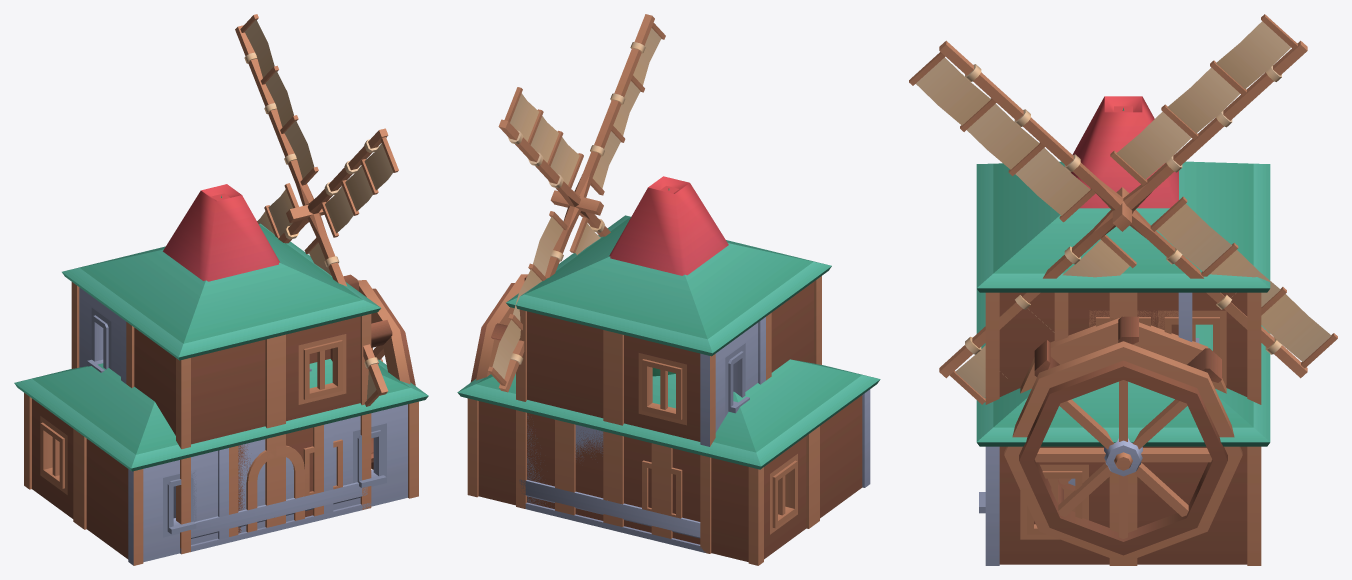
The model's file is farm.glb.
The picture shows the model from 3 angles, left to right: view 1: azimuth 30°, elevation 25°; view 2: azimuth 150°, elevation 25°; view 3: azimuth 270°, elevation 25°; orthographic projection. The views are drawn at different scales.
Visible parts, largest first — view 1: roof-corner (×7), wall-wood (×5), wall-wood-window-small (×3), wall-wood-window-shutters (×4), windmill, roof-high-point, wall (×2), wall-wood-door, fountain-square-detail, watermill, wall-window-shutters, roof (+1 smaller); view 2: wall-wood (×8), roof-corner (×7), wall-wood-window-shutters (×3), windmill, roof-high-point, wall-wood-window-small (×2), fountain-square-detail, wall-window-shutters (×2), watermill, wall, roof, wall-window-small; view 3: windmill, roof-corner (×6), watermill, wall-wood (×5), wall-wood-window-shutters (×4), roof-high-point, wall-wood-window-small (×2), roof.
Boxes of the visible parts, x1,y1,x2,y2 form: roof-corner (×7): [14, 223, 428, 471]; wall-wood (×5): [24, 314, 371, 565]; wall-wood-window-small (×3): [79, 287, 407, 565]; wall-wood-window-shutters (×4): [32, 282, 418, 525]; windmill: [235, 14, 398, 406]; roof-high-point: [163, 184, 279, 281]; wall (×2): [173, 436, 276, 554]; wall-wood-door: [229, 425, 323, 536]; fountain-square-detail: [180, 482, 371, 553]; watermill: [330, 274, 415, 462]; wall-window-shutters: [276, 434, 342, 525]; roof: [227, 412, 327, 447]; wall-wood (×8): [467, 276, 862, 565]; roof-corner (×7): [457, 215, 880, 469]; wall-wood-window-shutters (×3): [516, 309, 814, 565]; windmill: [488, 14, 665, 392]; roof-high-point: [609, 176, 728, 275]; wall-wood-window-small (×2): [700, 317, 870, 487]; fountain-square-detail: [519, 479, 705, 552]; wall-window-shutters (×2): [516, 410, 711, 553]; watermill: [470, 274, 527, 382]; wall: [527, 416, 612, 524]; roof: [561, 374, 675, 444]; wall-window-small: [700, 455, 709, 553]; windmill: [909, 14, 1337, 404]; roof-corner (×6): [976, 161, 1270, 446]; watermill: [1004, 316, 1242, 562]; wall-wood (×5): [999, 292, 1261, 565]; wall-wood-window-shutters (×4): [985, 292, 1247, 565]; roof-high-point: [1071, 96, 1178, 208]; wall-wood-window-small (×2): [979, 292, 1199, 565]; roof: [1195, 324, 1270, 379].
Size of the model in its own units: 3.24 by 4.16 by 3.11.
Materials: 19 (3 with a texture image).
